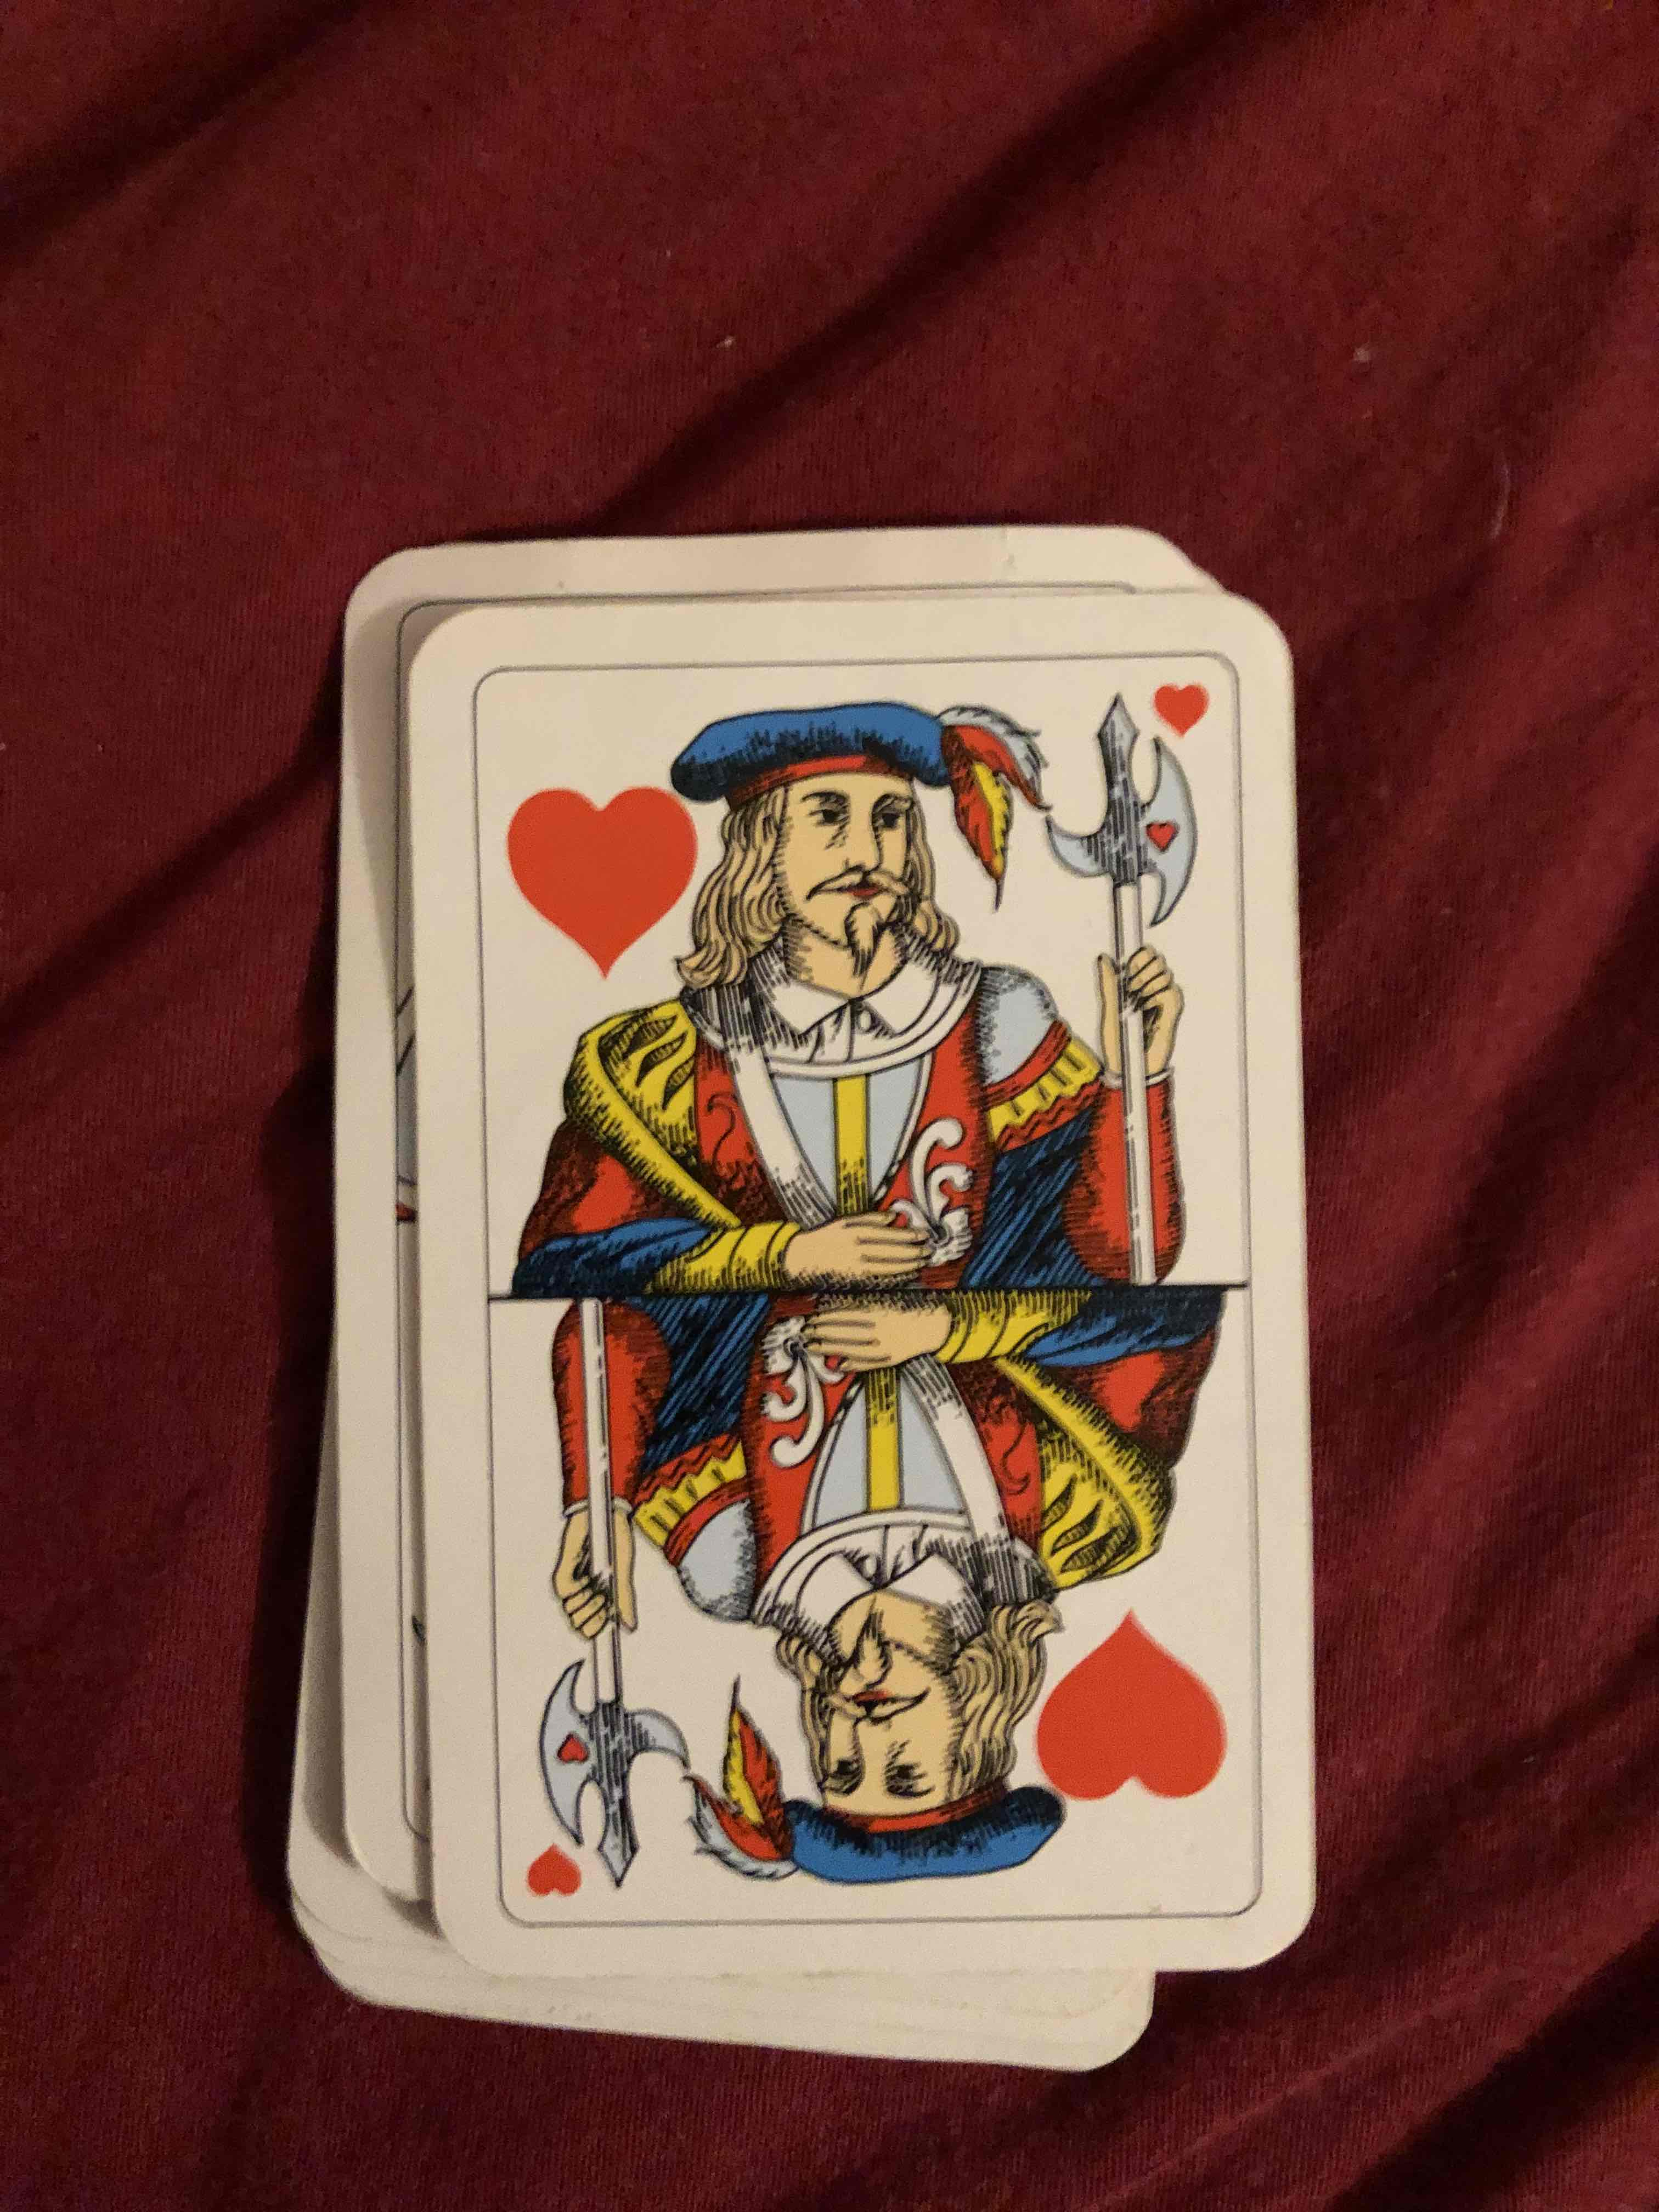heartsJack: (430, 622, 1312, 1942)
